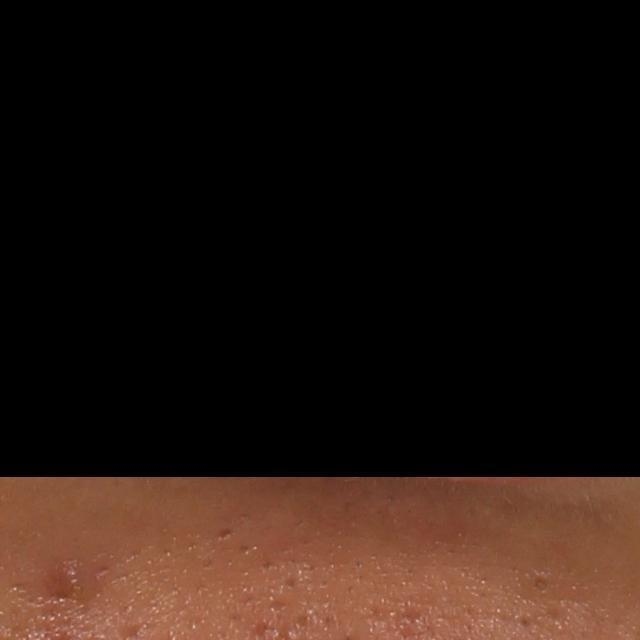atrophic_scar: (398, 599, 430, 625), (267, 595, 290, 615), (516, 610, 536, 629), (216, 527, 234, 542)
comedo: (532, 569, 553, 592)
papule: (52, 557, 88, 598)
